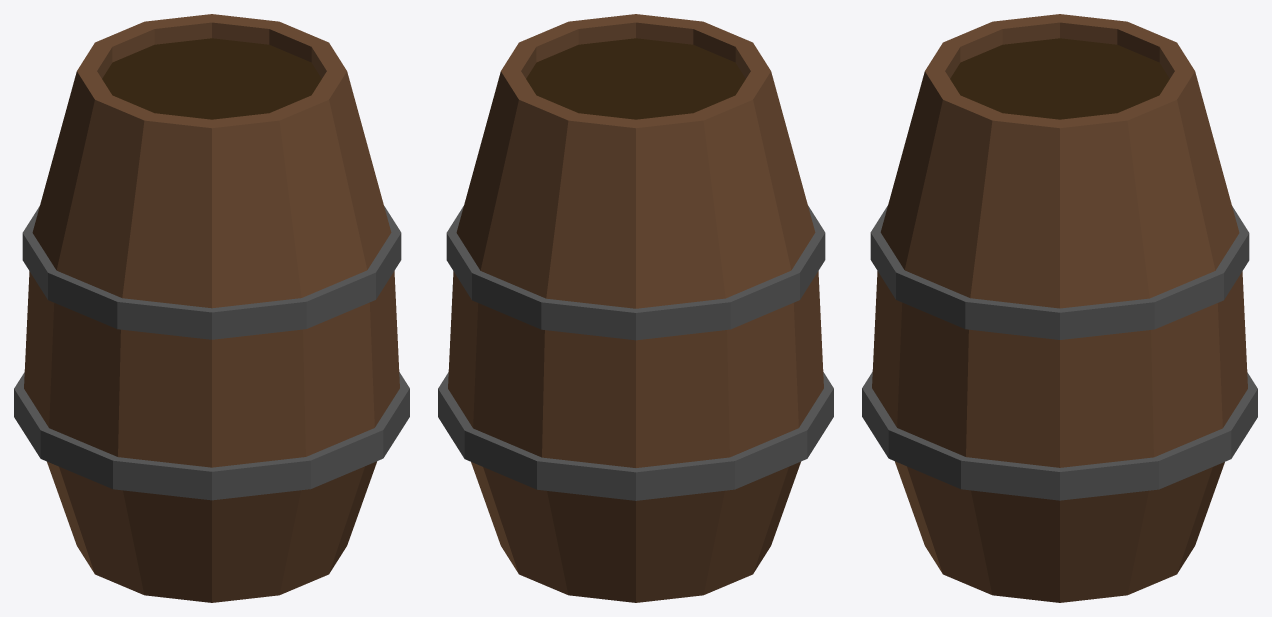
The model's file is Barrel.fbx.
3 renders of one model, left to right at view 1: azimuth 30°, elevation 25°; view 2: azimuth 150°, elevation 25°; view 3: azimuth 270°, elevation 25°, orthographic.
Parts seen in each view (by area): view 1: Cylinder; view 2: Cylinder; view 3: Cylinder.
Boxes of the visible parts, box(x1,y1,x2,y2) form: Cylinder: box(14, 14, 409, 602); Cylinder: box(438, 14, 833, 602); Cylinder: box(862, 14, 1257, 602).
Size of the model in its own units: 176 by 233 by 176.
